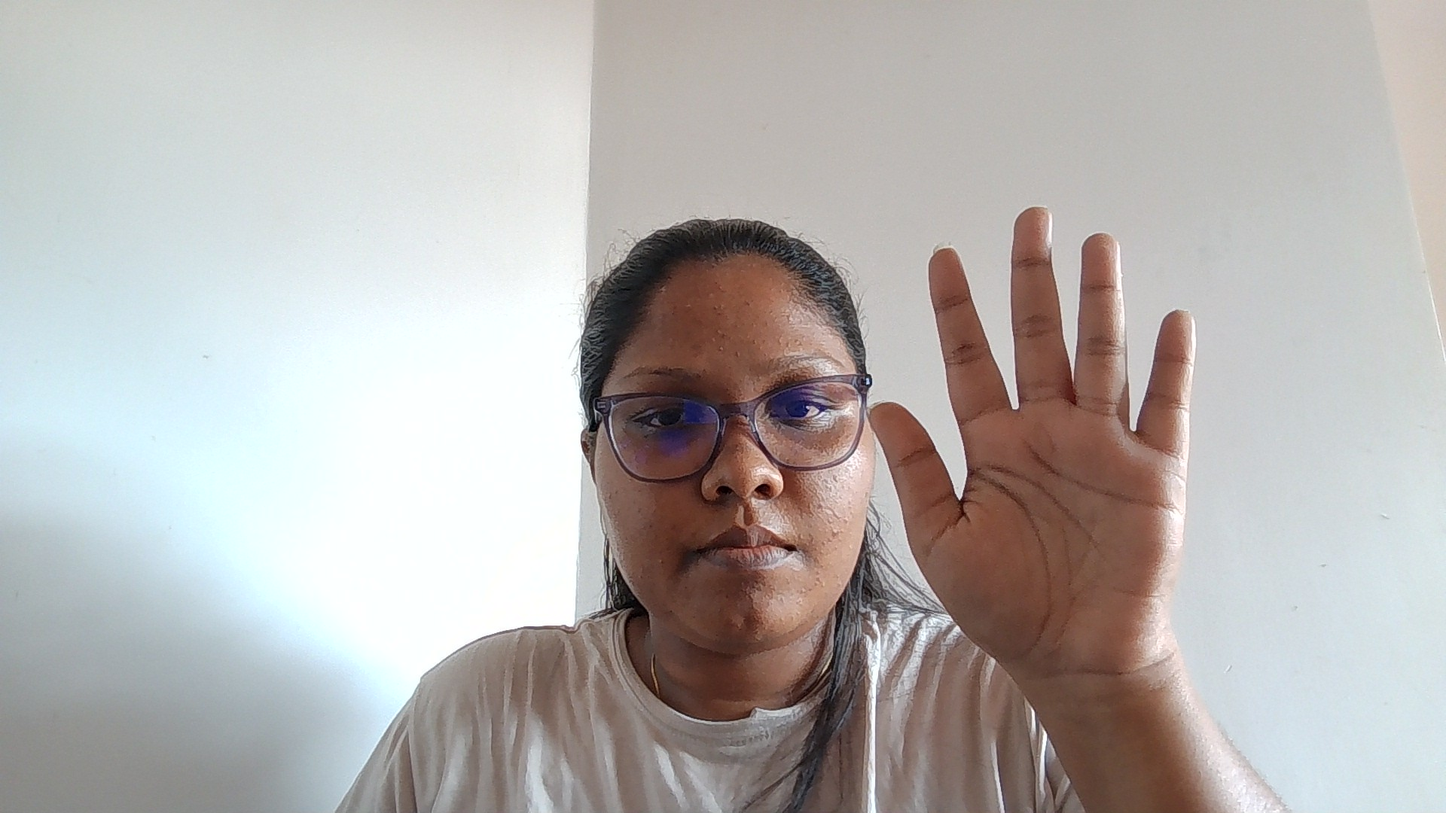Hello: (811, 179, 1286, 688)
